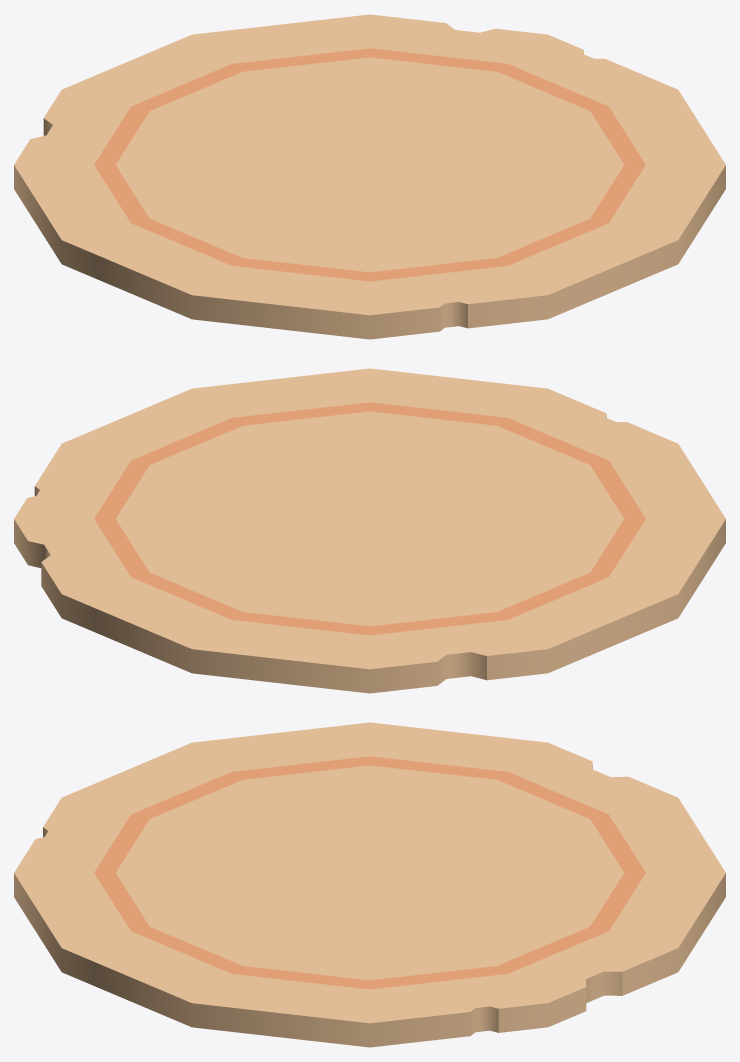
Rendered from cuttingBoardRound.obj.
The picture shows the model from 3 angles, top to bottom: view 1: azimuth 30°, elevation 25°; view 2: azimuth 150°, elevation 25°; view 3: azimuth 270°, elevation 25°; orthographic projection.
Visible parts, largest first — view 1: cuttingBoardRound; view 2: cuttingBoardRound; view 3: cuttingBoardRound.
Part boxes in pixels (x1,y1,x2,y2): cuttingBoardRound: (14,14,725,339); cuttingBoardRound: (14,368,725,693); cuttingBoardRound: (14,722,725,1047).
Bounding box in the file's own units: 0.8 × 0.03 × 0.8.
